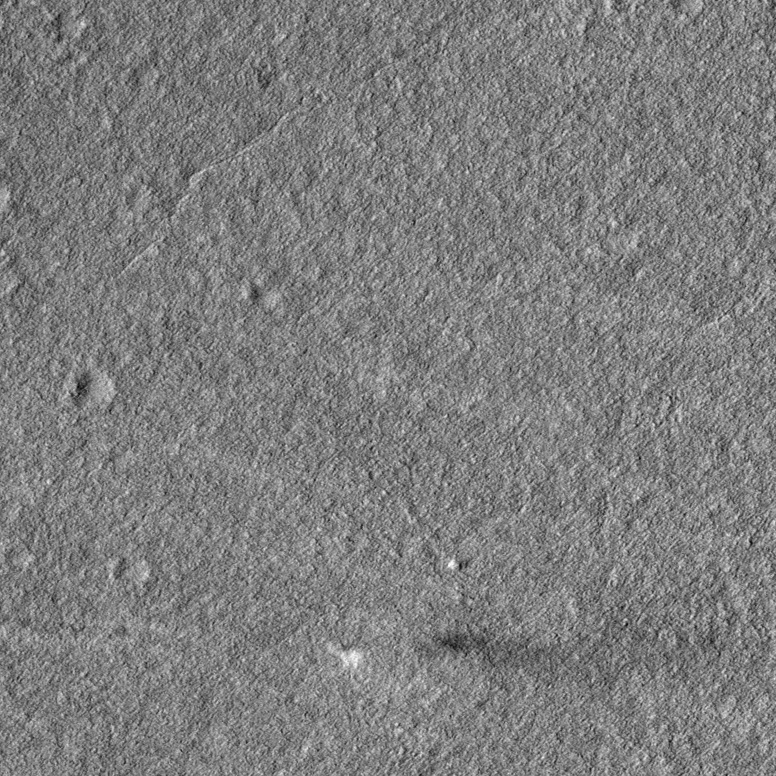dust_devil: (322, 630, 556, 686)
